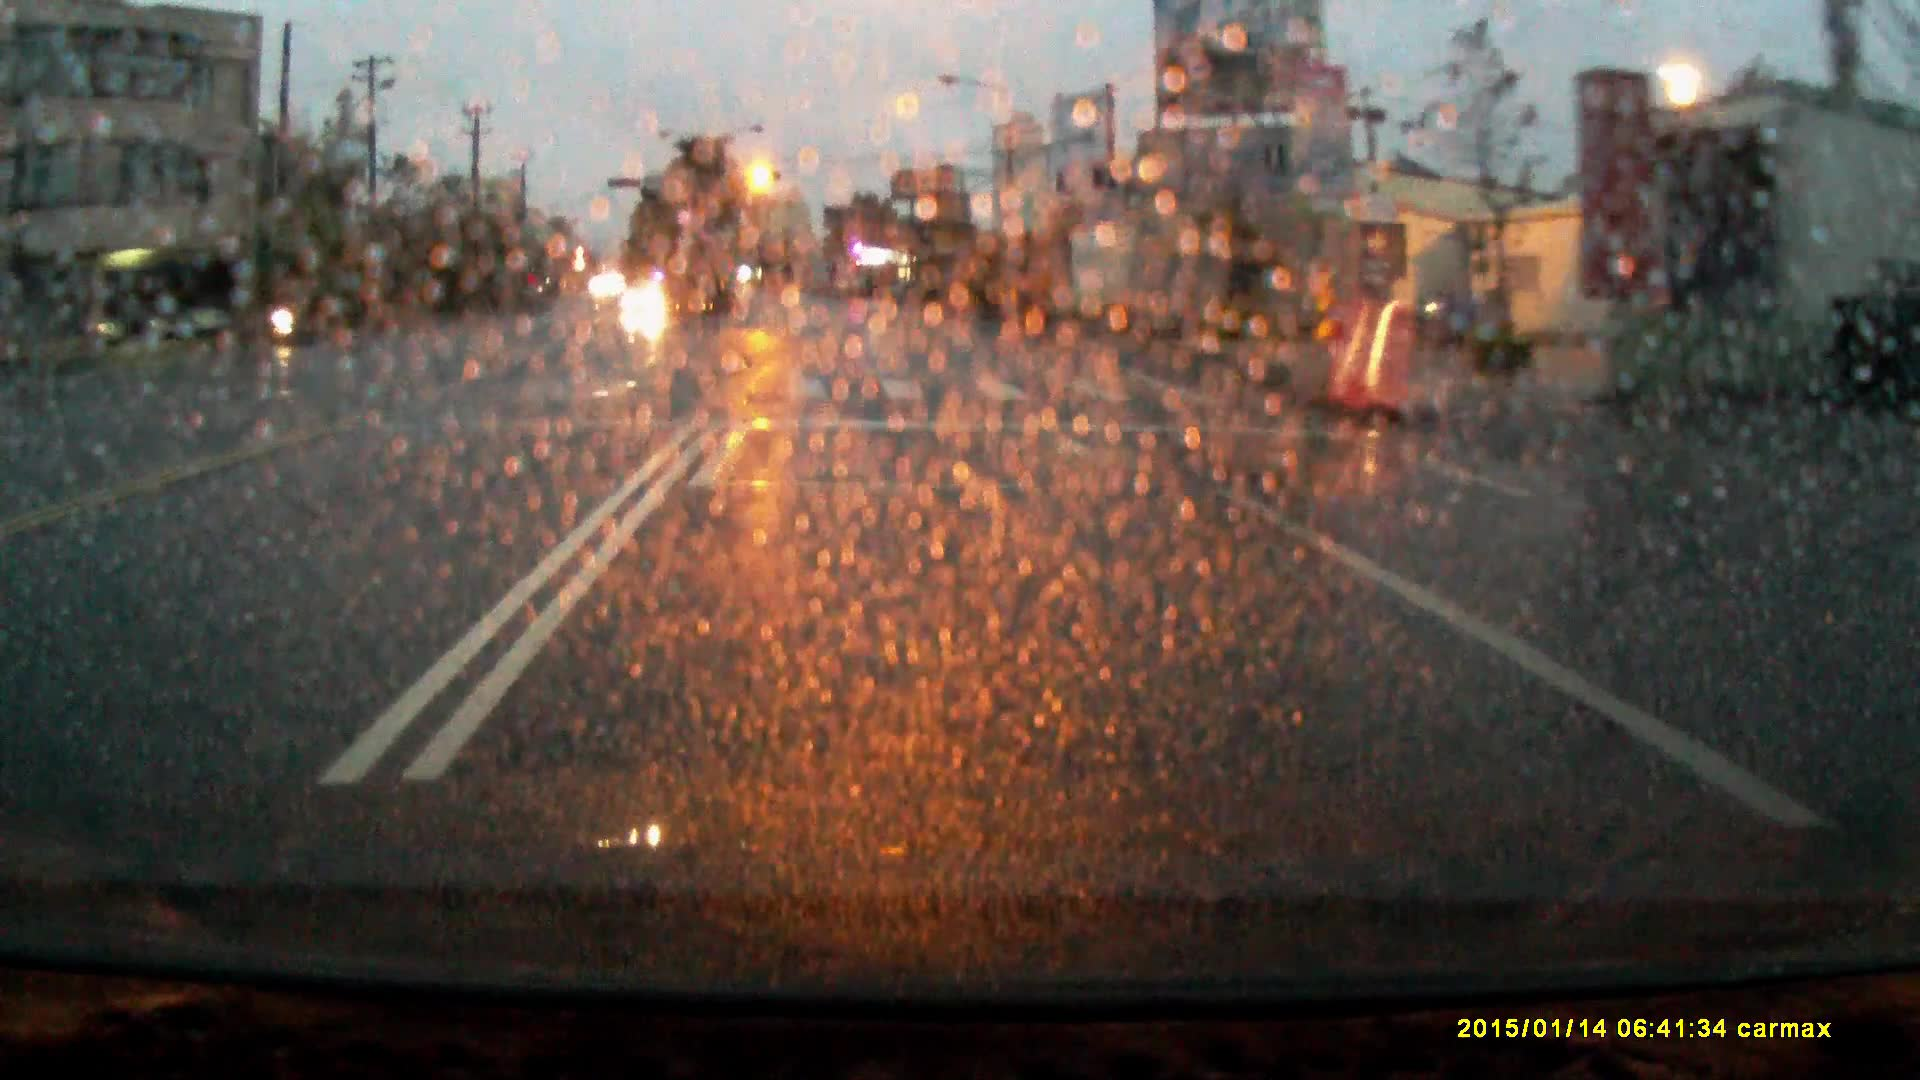rider: (1414, 272, 1484, 341), (267, 277, 303, 357)
vehicle: (622, 283, 667, 313)
